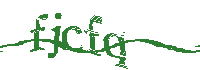c: (62, 24, 84, 50)
f: (29, 13, 48, 53), (85, 14, 102, 57)
j: (49, 11, 62, 58)
q: (104, 33, 128, 70)
